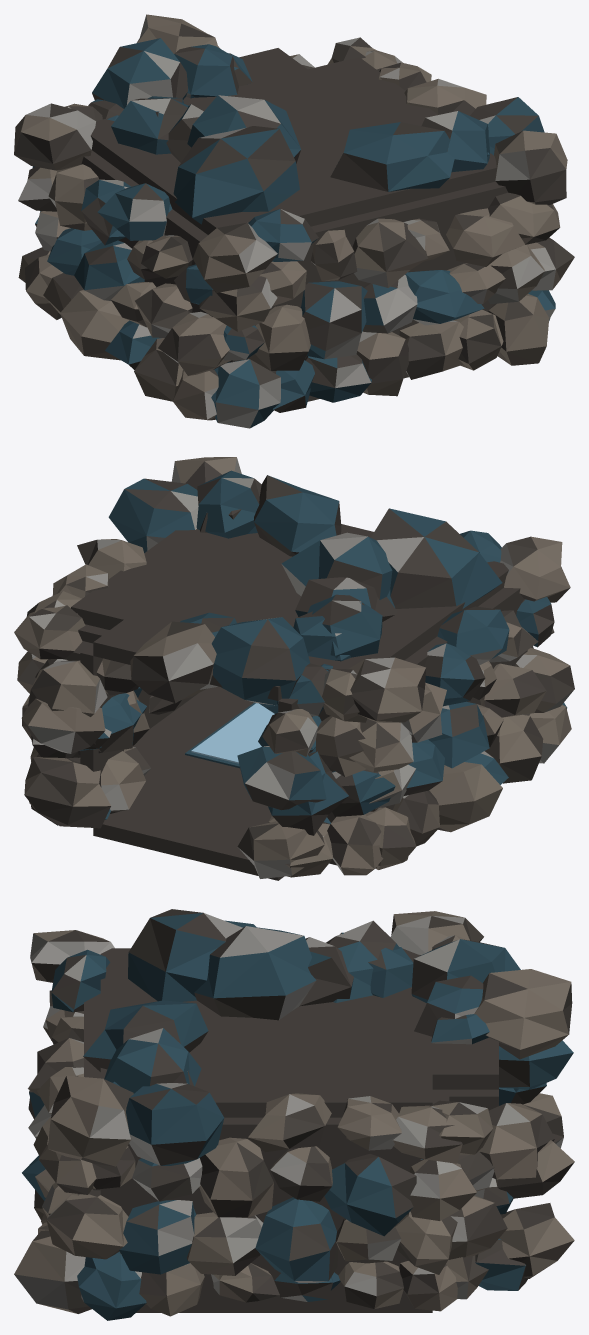
The model's file is Cave_Flooded_Pocket.fbx.
3 renders of one model, top to bottom at view 1: azimuth 30°, elevation 25°; view 2: azimuth 150°, elevation 25°; view 3: azimuth 270°, elevation 25°, orthographic. The views are drawn at different scales.
Visible parts, largest first — view 1: Decor, Ceiling2, Wall3, Wall6, Ceiling1; view 2: Decor, Ceiling2, Floor2, Floor1, DecorGlass, Ceiling1, Wall6, Wall5; view 3: Decor, Ceiling2, Wall4, Ceiling1, Floor2, Wall3, Wall5.
Boxes of the visible parts, <box> form: Decor: <box>14,14,574,428</box>; Ceiling2: <box>90,57,496,234</box>; Wall3: <box>229,181,507,362</box>; Wall6: <box>81,150,212,316</box>; Ceiling1: <box>184,48,307,99</box>; Decor: <box>14,457,574,878</box>; Ceiling2: <box>71,524,508,670</box>; Floor2: <box>132,686,336,865</box>; Floor1: <box>93,802,283,880</box>; DecorGlass: <box>191,703,274,763</box>; Ceiling1: <box>93,620,281,700</box>; Wall6: <box>370,587,527,811</box>; Wall5: <box>80,643,123,773</box>; Decor: <box>14,909,574,1320</box>; Ceiling2: <box>100,948,432,1117</box>; Wall4: <box>100,1117,423,1304</box>; Ceiling1: <box>432,1038,498,1089</box>; Floor2: <box>136,1305,432,1312</box>; Wall3: <box>84,993,100,1190</box>; Wall5: <box>433,1089,498,1110</box>.
Size of the model in its own units: 32.24 by 18.43 by 33.8.
